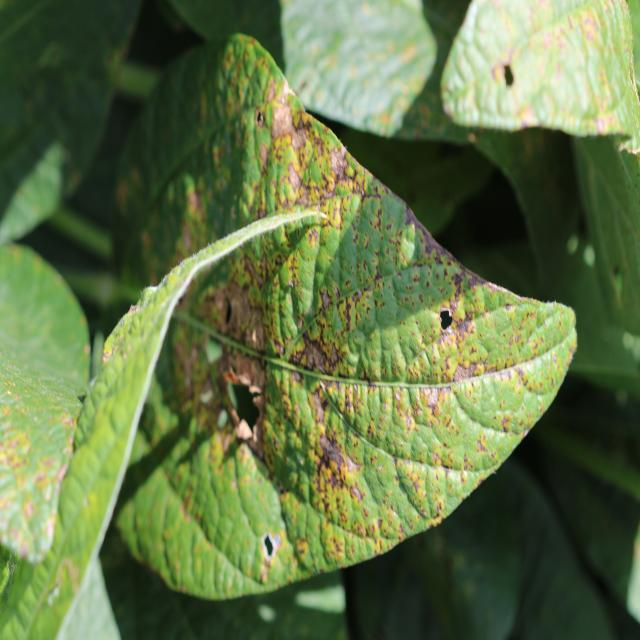Bacterial_Blight: (204, 283, 267, 450), (407, 318, 521, 385), (264, 89, 325, 208), (291, 114, 356, 218), (170, 312, 216, 413), (212, 270, 265, 355), (102, 310, 141, 361), (318, 431, 353, 479), (289, 332, 328, 373), (270, 101, 296, 141), (213, 286, 234, 327), (308, 389, 327, 425)
Soybean: (103, 35, 576, 599)
